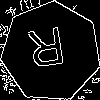R: (26, 27, 69, 78)
